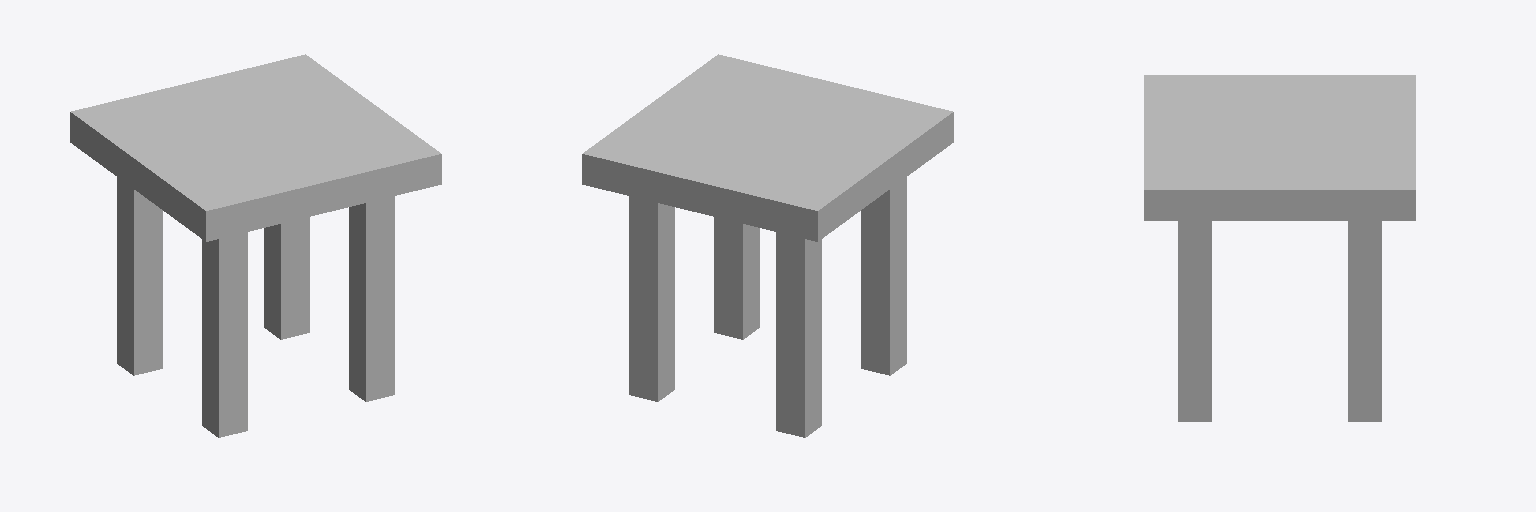
Rendered from market_table_single.obj.
3 views of the same model, side by side, from view 1: azimuth 30°, elevation 25°; view 2: azimuth 150°, elevation 25°; view 3: azimuth 270°, elevation 25° (orthographic).
Visible parts, largest first — view 1: Market_Table_Single_Cube.008; view 2: Market_Table_Single_Cube.008; view 3: Market_Table_Single_Cube.008.
Boxes of the visible parts, box(x1,y1,x2,y2) form: Market_Table_Single_Cube.008: box(70, 54, 441, 437); Market_Table_Single_Cube.008: box(582, 54, 953, 437); Market_Table_Single_Cube.008: box(1144, 75, 1415, 421).
Size of the model in its own units: 1 by 1 by 1.